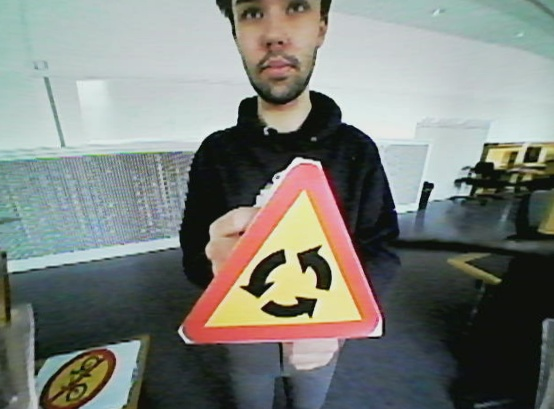roundabout_warning: (178, 155, 389, 338)
